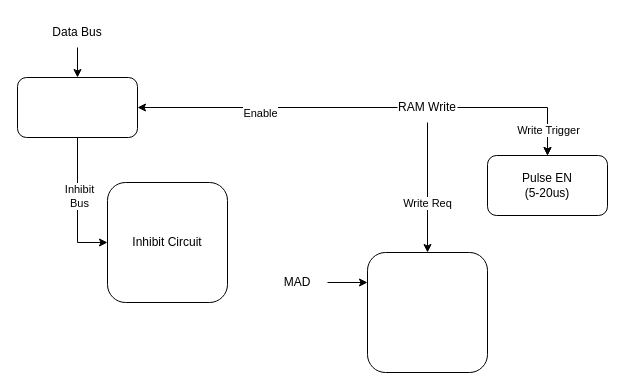
Some shapes in this 625 by 390 pixel diagram are drawn without their labels. Each missing label, with the centre of its shape:
"8 Bit Inverter" goes at (x=77, y=107).
"Drive Circuit" goes at (x=427, y=312).
